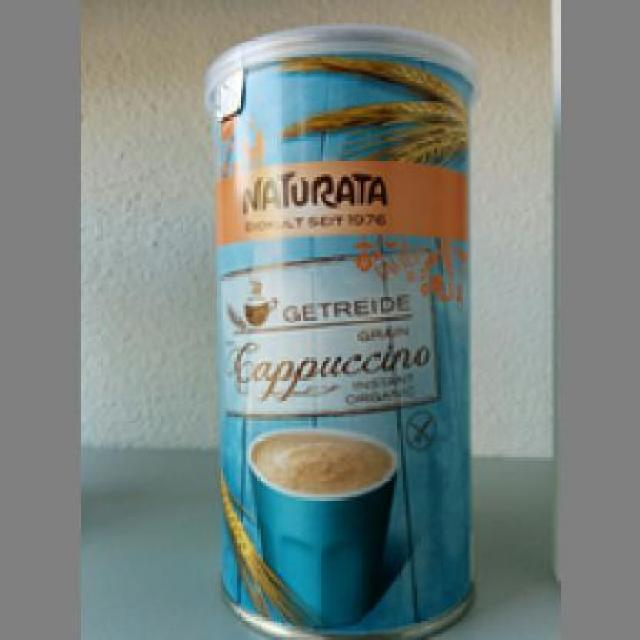Coffee: (197, 20, 480, 637)
